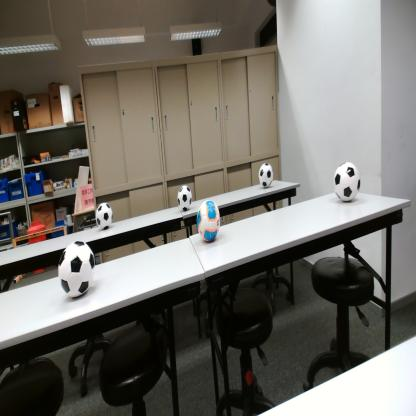ball: (58, 241, 95, 297), (196, 198, 220, 242), (334, 161, 361, 200), (96, 202, 113, 228), (178, 186, 193, 211), (260, 162, 273, 189)
